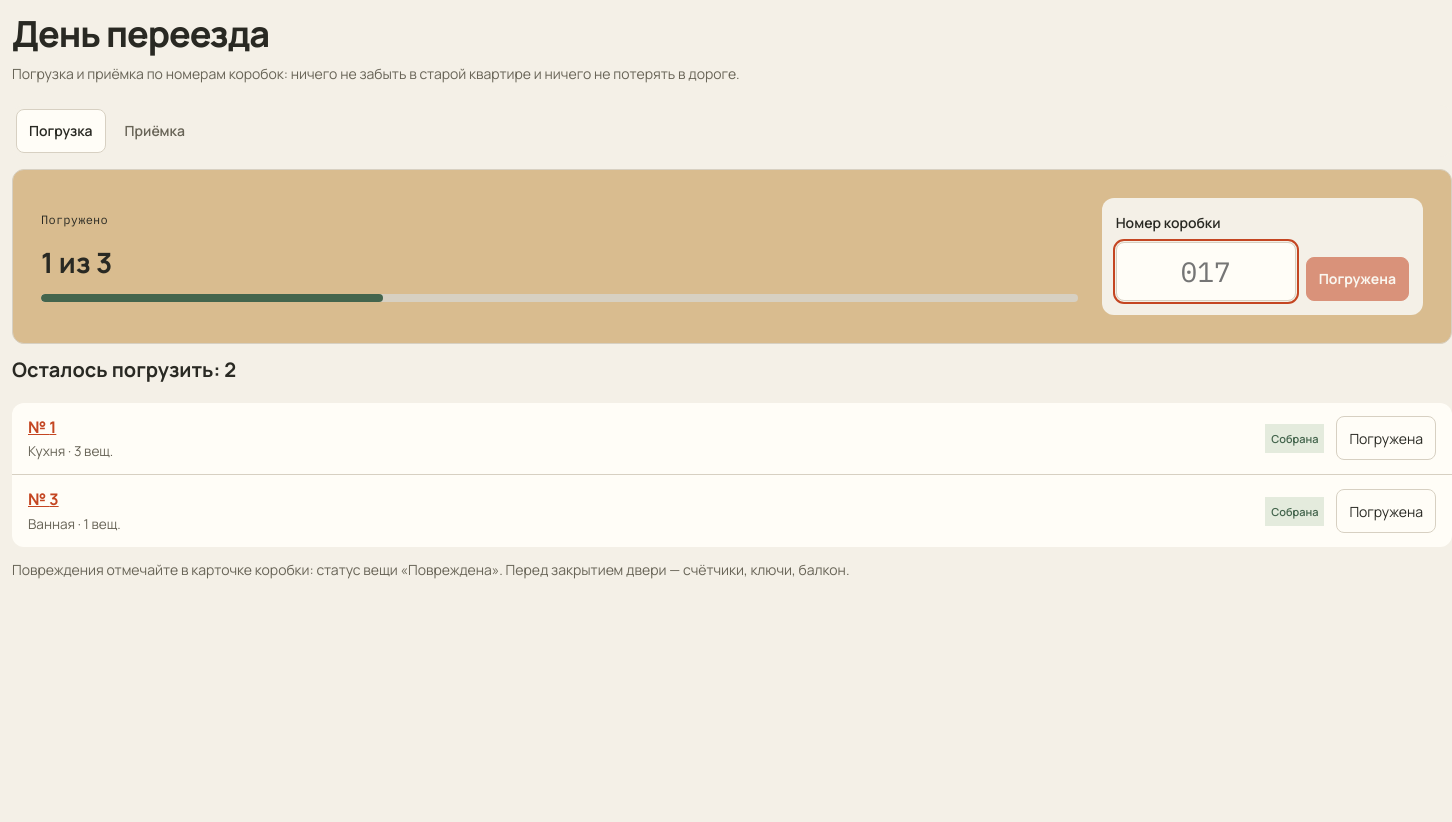
Test: день переезда › погрузка по номеру, счётчик и список того, что осталось
Expected: the heading "1 из 3" is shown, [41, 242, 112, 280]
Expected: the heading "Осталось погрузить: 2" is shown, [12, 356, 236, 383]
Type "003" into the field labelled "Номер коробки". click: (1206, 271)
box: [1116, 242, 1296, 301]
Then press Enter
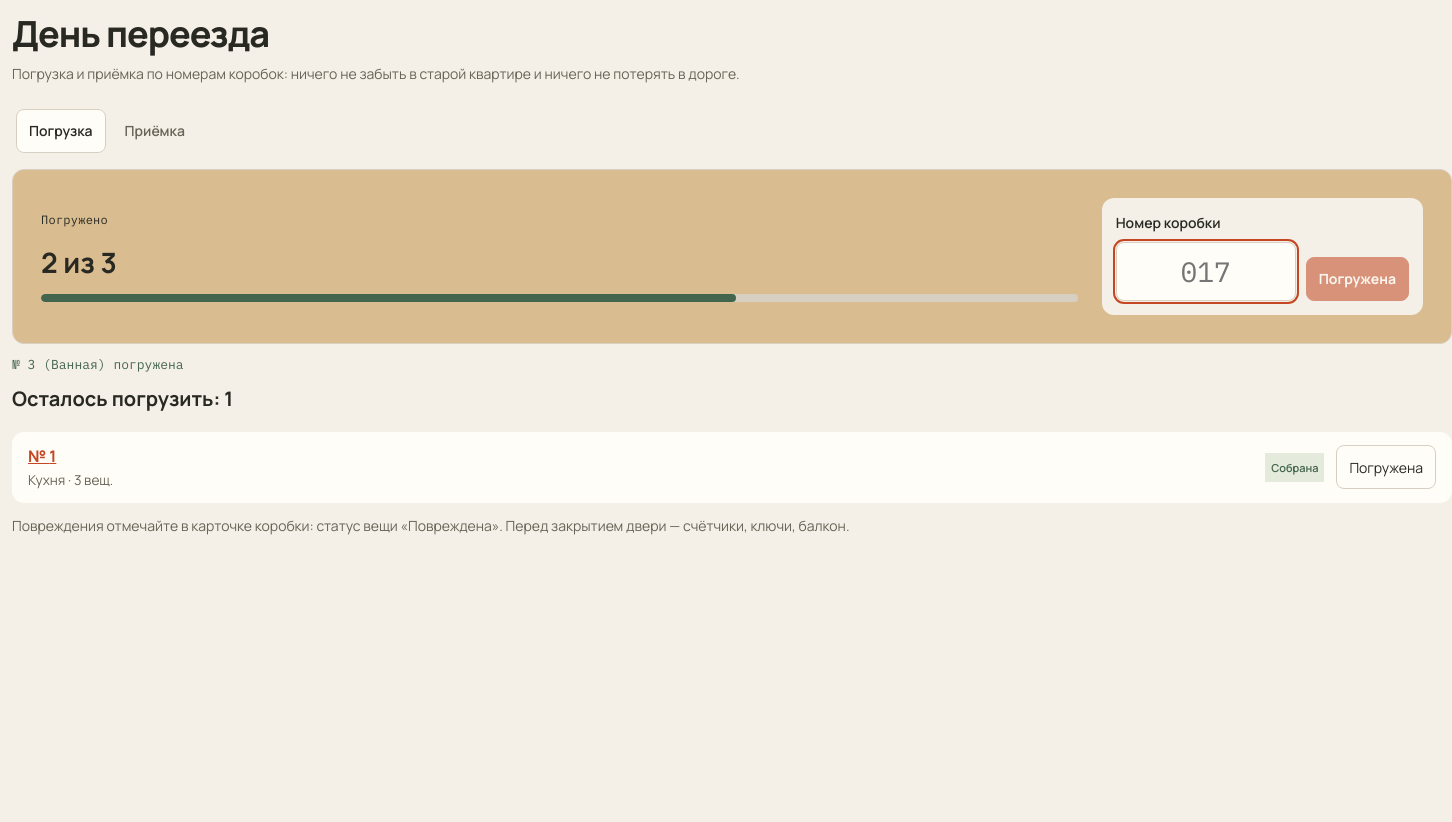
Now the heading "2 из 3" is shown, box [41, 242, 117, 280]
Note: уже погруженная коробка не отправляется повторно, неизвестный номер - понятное сообщение
Type "2" into the field labelled "Номер коробки". click: (1206, 271)
box: [1116, 242, 1296, 301]
Then press Enter
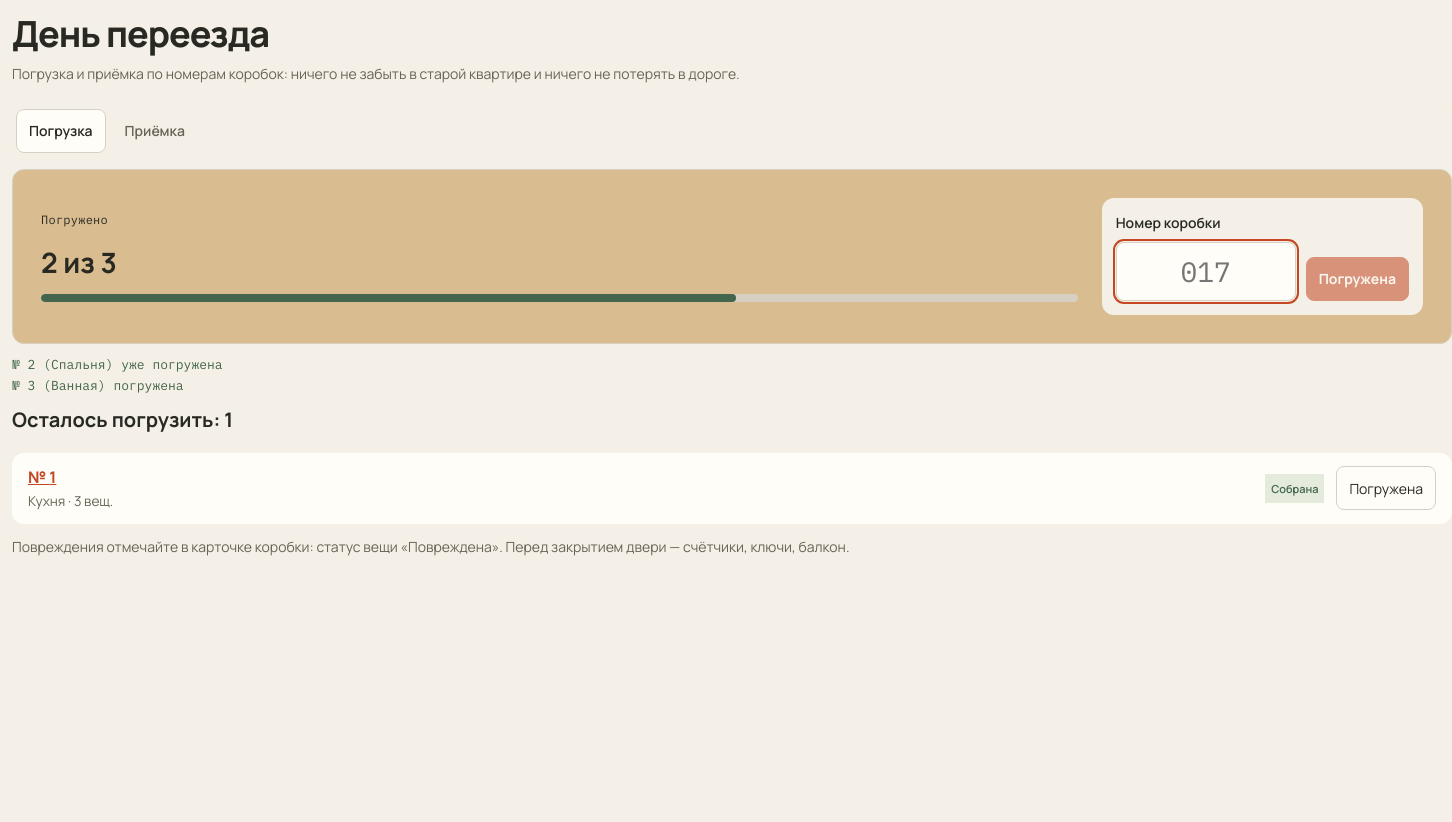
Now the list item "№ 2 (Спальня) уже погружена" is shown, box [12, 356, 223, 373]
Type "99" into the field labelled "Номер коробки". click: (1206, 271)
box: [1116, 242, 1296, 301]
Then press Enter
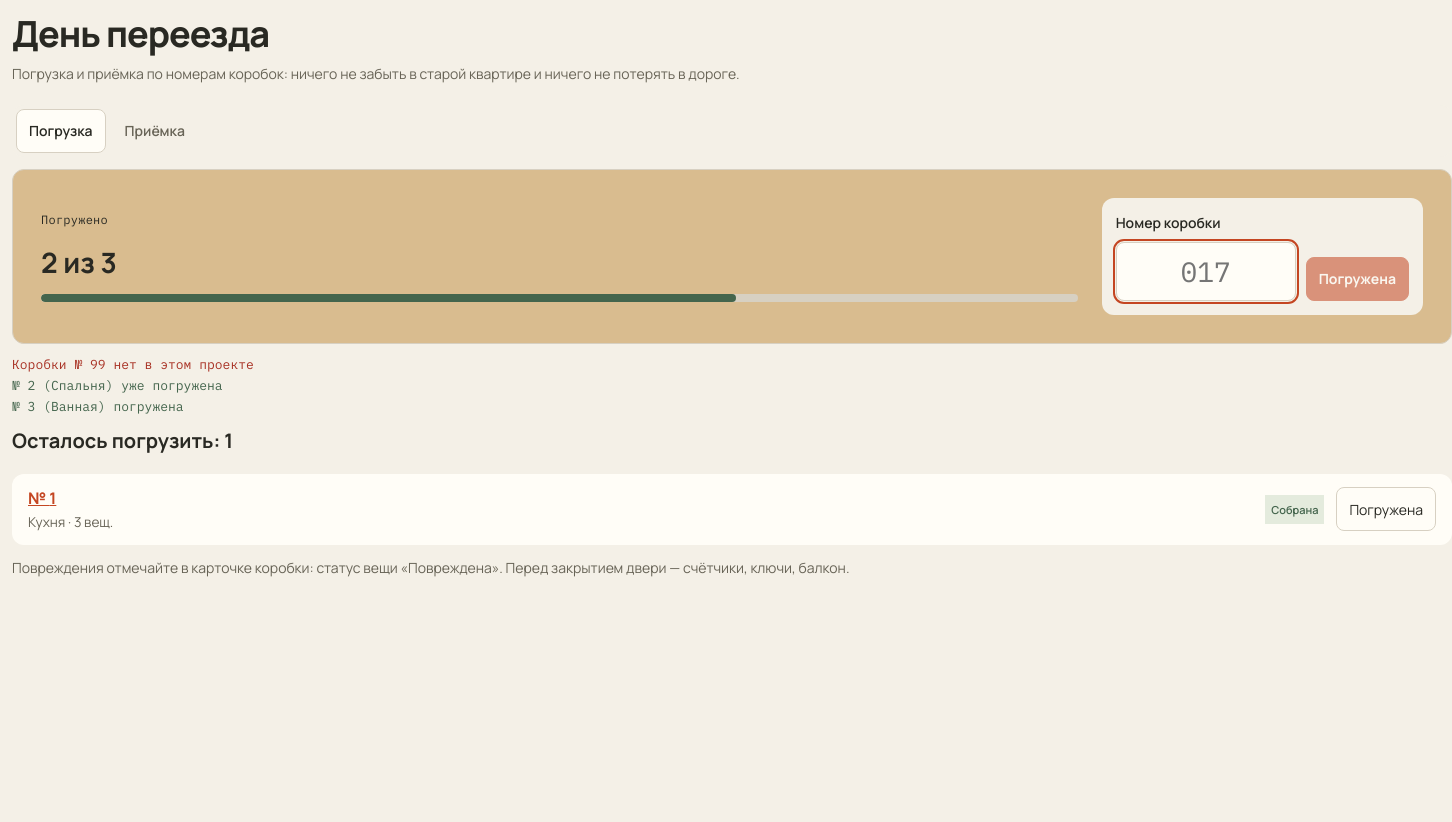
Now the list item "Коробки № 99 нет в этом проекте" is shown, box [12, 356, 254, 373]
